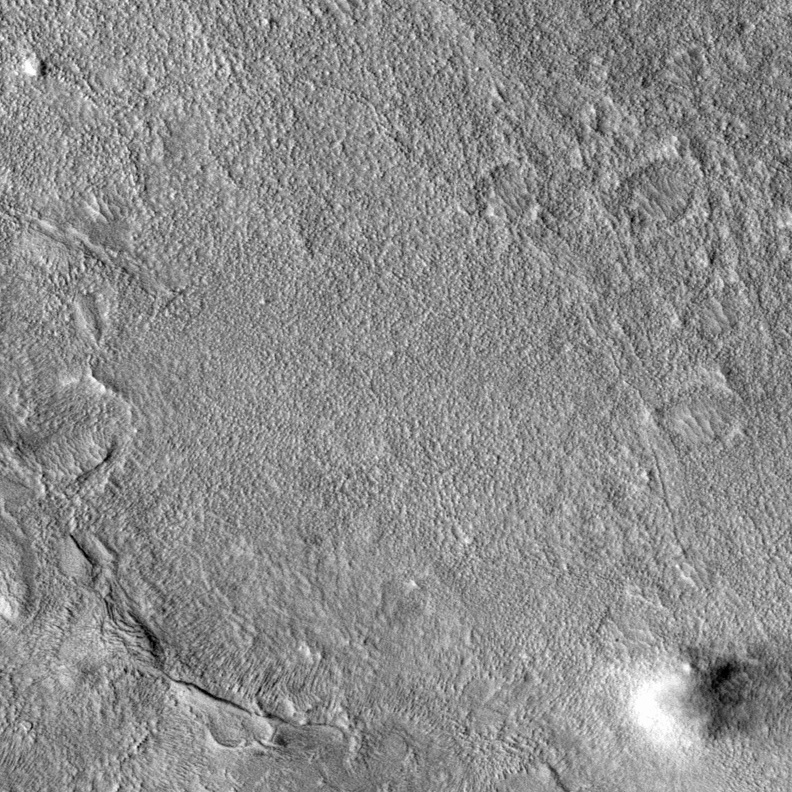dust_devil: (618, 631, 792, 755)
